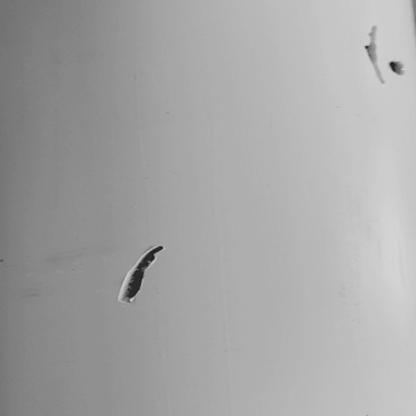kongdong: (110, 244, 168, 305), (359, 17, 392, 87), (377, 57, 413, 80)
